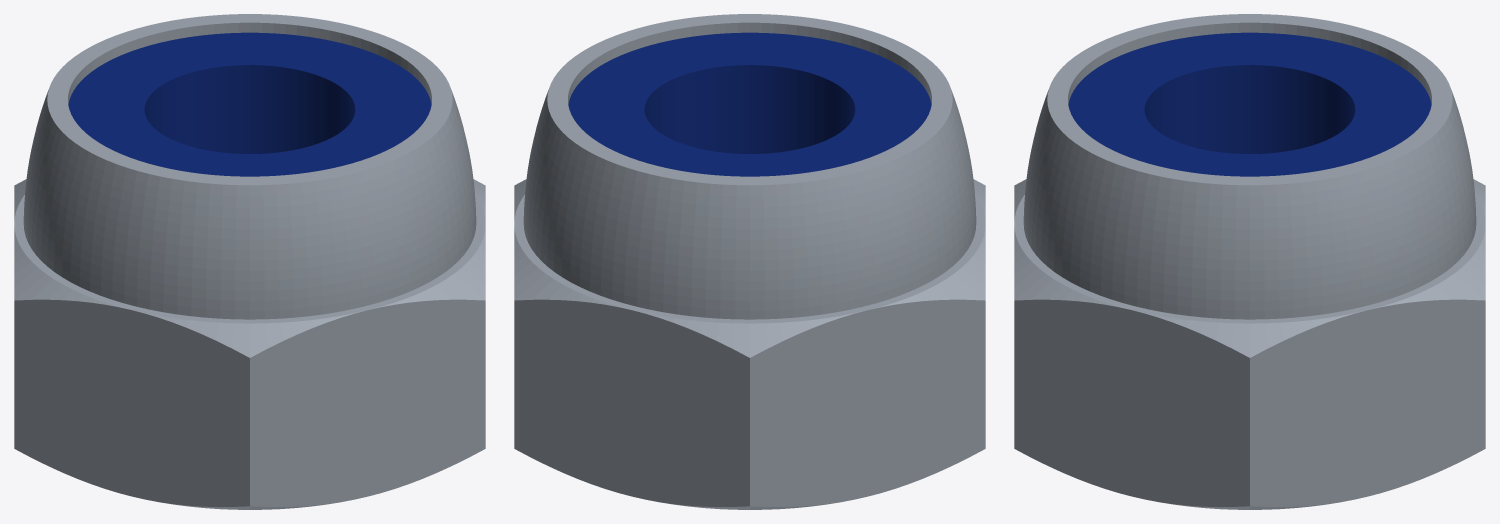
The model's file is model_full.glb.
The picture shows the model from 3 angles, left to right: view 1: azimuth 30°, elevation 25°; view 2: azimuth 150°, elevation 25°; view 3: azimuth 270°, elevation 25°; orthographic projection.
Parts seen in each view (by area): view 1: steel, nylon_insert; view 2: steel, nylon_insert; view 3: steel, nylon_insert.
Boxes of the visible parts, x1,y1,x2,y2 form: steel: [14, 14, 485, 509]; nylon_insert: [68, 32, 431, 176]; steel: [514, 14, 985, 509]; nylon_insert: [568, 32, 931, 176]; steel: [1014, 14, 1485, 509]; nylon_insert: [1068, 32, 1431, 176].
Size of the model in its own units: 0.00635 by 0.004 by 0.0055.
